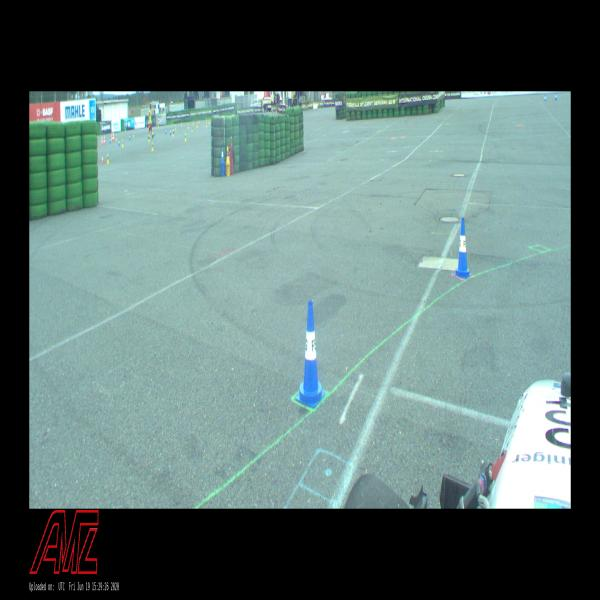blue_cone: (295, 300, 326, 408), (453, 218, 471, 278), (221, 147, 225, 164), (555, 92, 557, 100), (118, 139, 120, 146), (165, 128, 167, 135), (544, 95, 546, 101), (170, 128, 171, 136), (110, 136, 111, 144), (129, 134, 130, 140)
large_orange_cone: (103, 134, 106, 144), (111, 129, 113, 141), (102, 134, 104, 145), (113, 131, 115, 141)
orange_cone: (102, 154, 104, 164), (198, 120, 200, 126)
yellow_cone: (226, 146, 230, 163), (151, 142, 154, 151), (107, 153, 109, 164), (185, 132, 187, 141), (172, 129, 174, 137), (122, 139, 124, 147), (148, 134, 150, 142), (187, 123, 189, 128), (133, 132, 135, 137), (116, 134, 117, 141), (192, 126, 193, 132), (197, 122, 198, 128), (193, 120, 194, 125), (172, 121, 173, 126), (206, 123, 207, 127), (209, 119, 210, 123), (206, 120, 207, 124), (176, 125, 176, 131)
